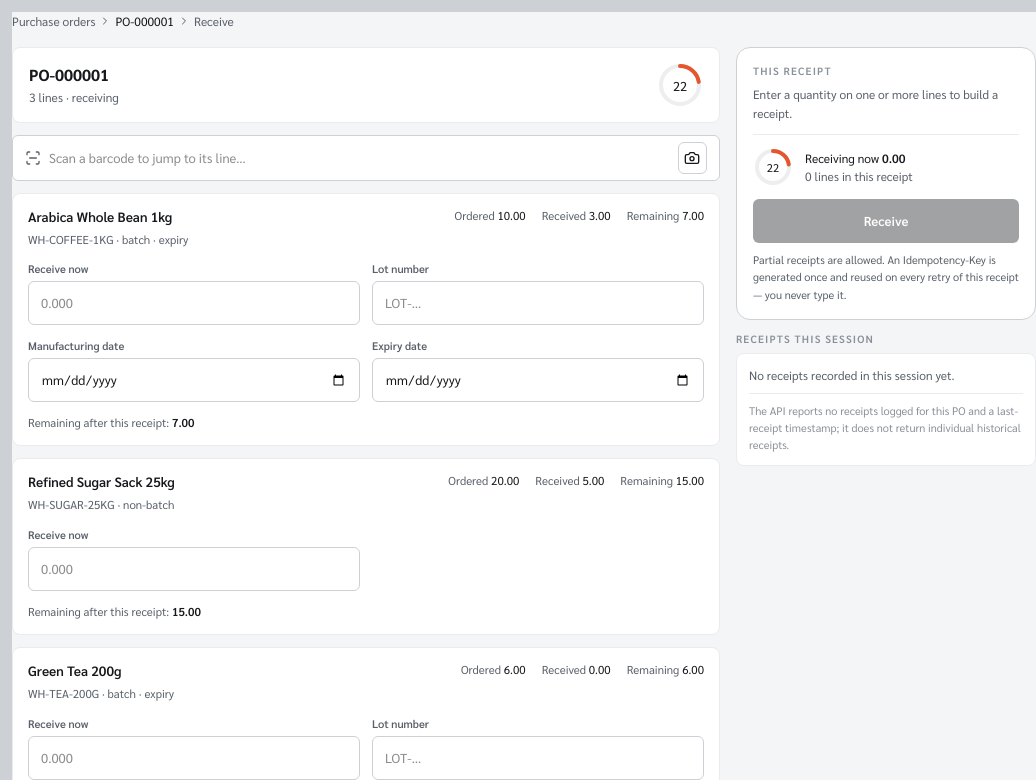
Test case: ReceivingConsole — partial receive with a persisted Idempotency-Key › submits { id, idempotencyKey, payload } and lists the receipt on success
Type "5" into the field labelled "Receive now" below "WH-SUGAR-25KG" at (194, 569), box [28,547,360,591]
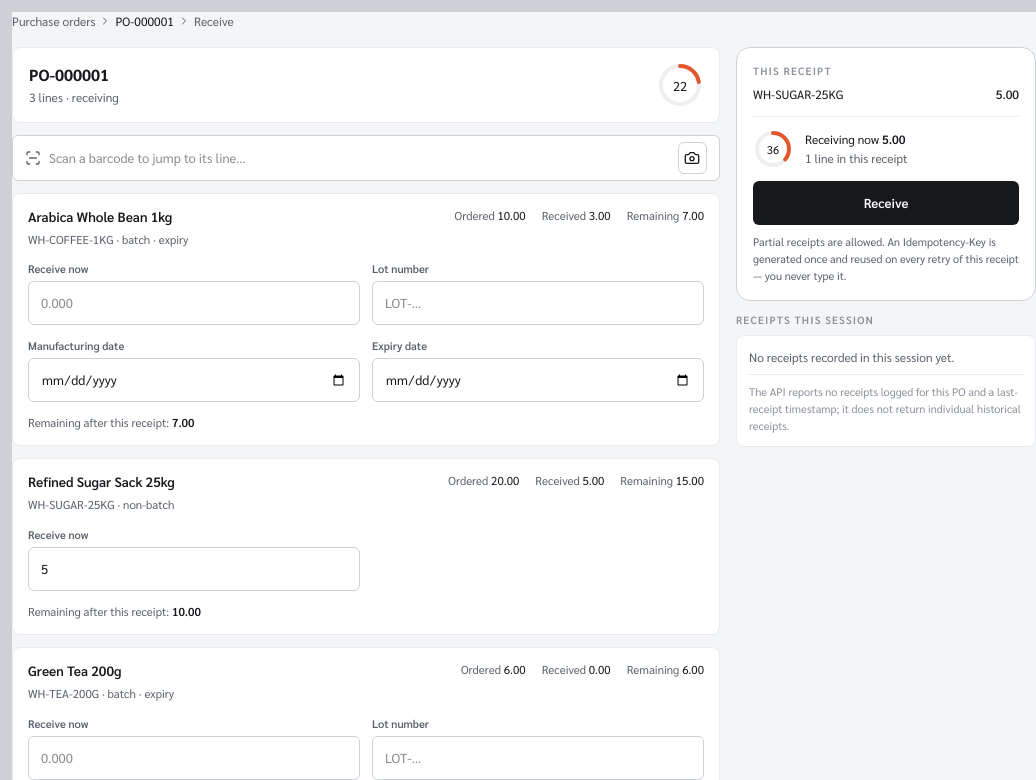
Expected: the button "Receive" is enabled
Click the button "Receive" at (886, 203), box [753,181,1019,225]
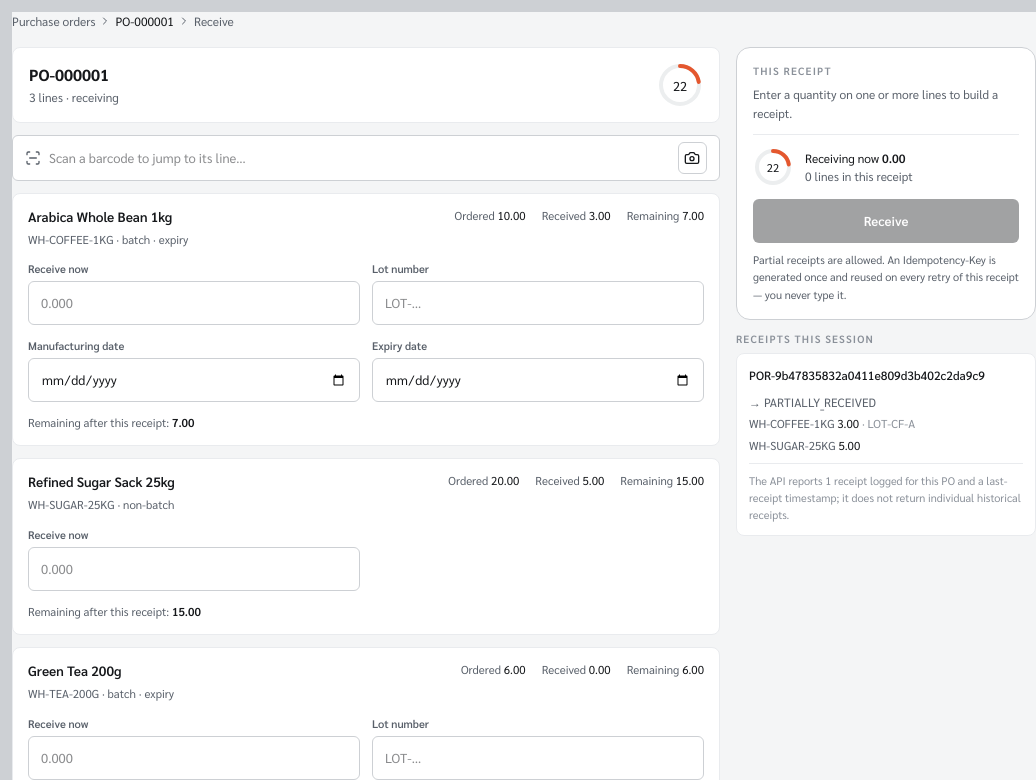
Expected: the text "POR-9b47835832a0411e809d3b402c2da9c9" is shown, [749,366,985,385]
Expected: the button "Receive" is disabled, [753,199,1019,243]
